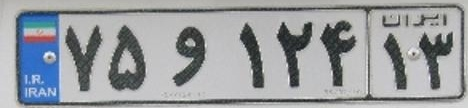character: (170, 18, 233, 97), (236, 16, 279, 96), (276, 19, 316, 102), (320, 13, 357, 100), (61, 23, 103, 98), (417, 26, 462, 94), (105, 22, 145, 94), (381, 28, 410, 93)
